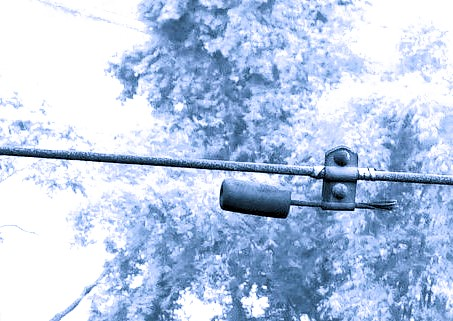Damage of shockproof hammer: (207, 134, 407, 226)
